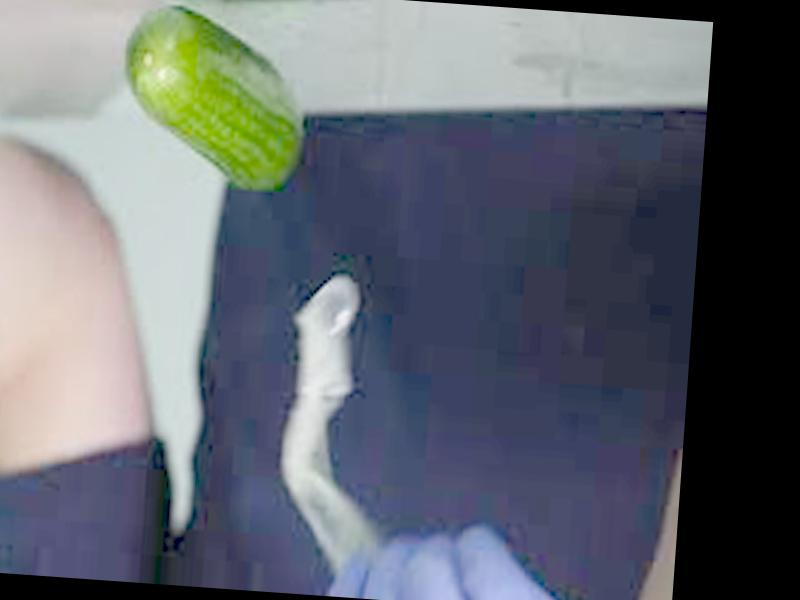Cucumber: (116, 1, 309, 192)
